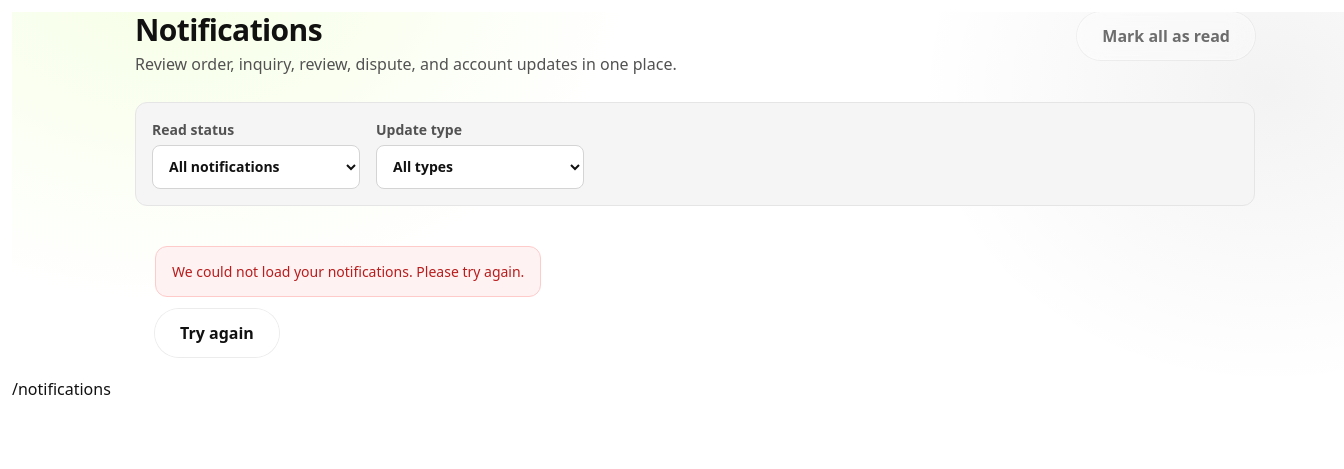
Test: NotificationsPage › shows friendly load errors and retries
The image size is (1344, 469).
Expected: the message shows "We could not load your notifications", top-left (172, 262), bottom-right (524, 281)
Click the button "Try again" at x=217, y=333, box top-left (155, 309), bottom-right (279, 357)
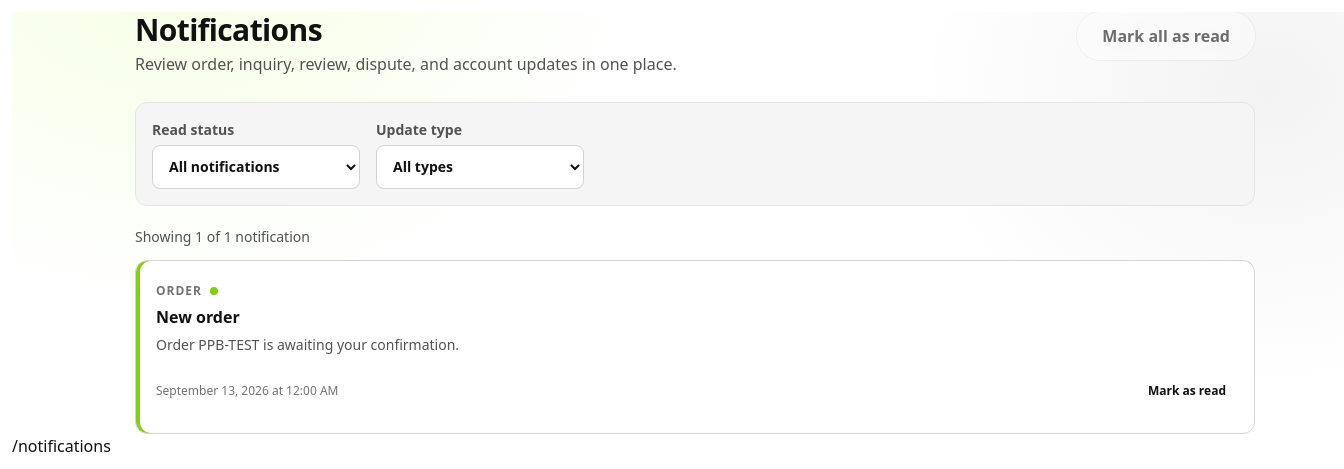
Expected: the text "New order" is shown, top-left (156, 306), bottom-right (240, 328)
